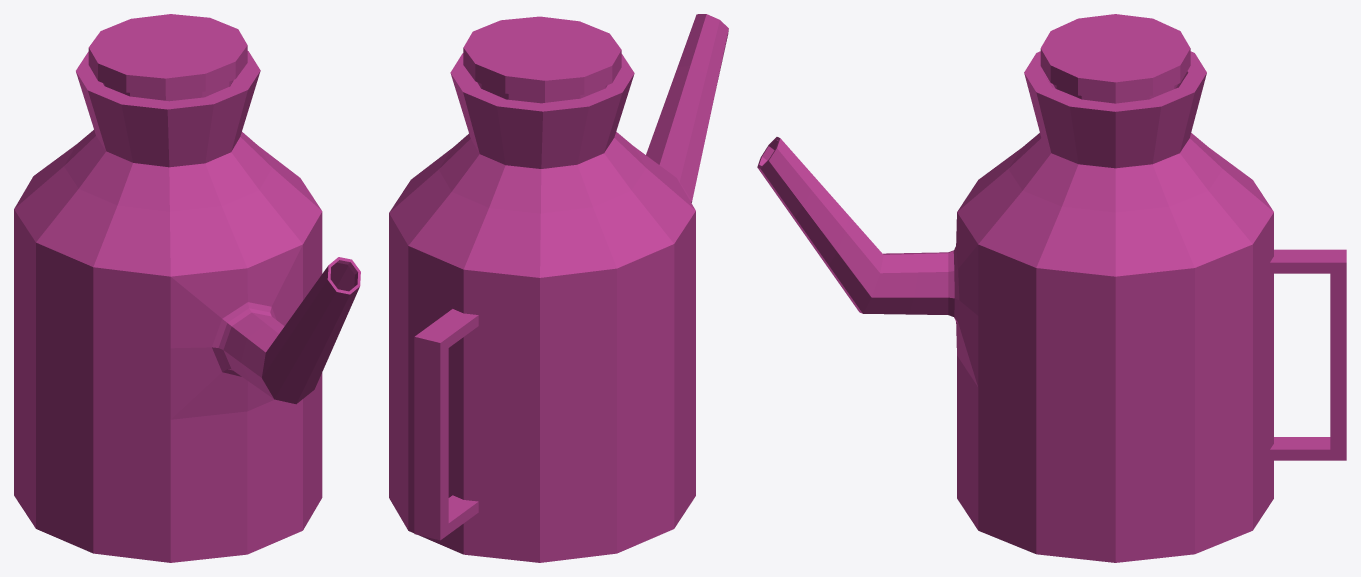
The model's file is Aceitera.fbx.
3 renders of one model, left to right at view 1: azimuth 30°, elevation 25°; view 2: azimuth 150°, elevation 25°; view 3: azimuth 270°, elevation 25°, orthographic.
Visible parts, largest first — view 1: Aceitera_PIVOT, Top; view 2: Aceitera_PIVOT, Top, Handle; view 3: Aceitera_PIVOT, Top, Handle.
Part boxes in pixels (x1,y1,x2,y2): Aceitera_PIVOT: (14,51,360,562); Top: (88,14,247,101); Aceitera_PIVOT: (389,14,728,562); Top: (463,16,621,103); Handle: (414,309,478,540); Aceitera_PIVOT: (757,51,1273,562); Top: (1040,14,1190,103); Handle: (1270,249,1346,460).
Size of the model in its own units: 5.44 by 8.85 by 10.5.
